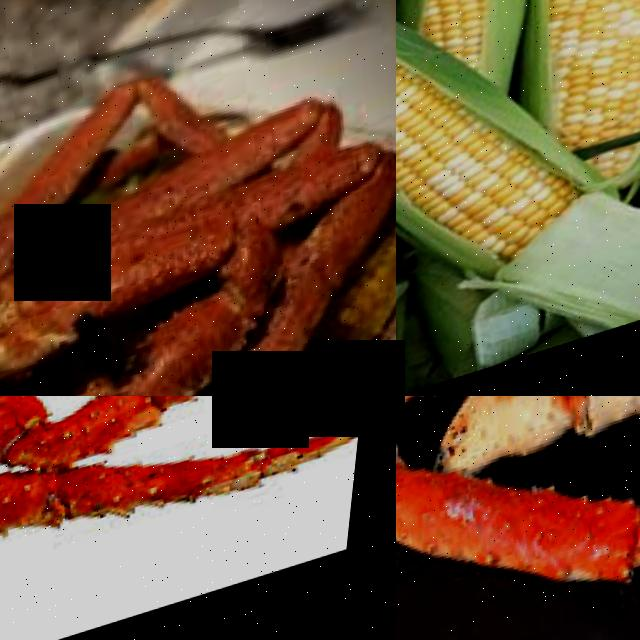corn: (396, 80, 601, 302), (508, 0, 640, 211), (396, 0, 493, 205), (396, 0, 551, 93)
crab: (0, 78, 396, 396), (0, 396, 374, 582), (396, 396, 640, 640), (0, 396, 146, 599), (58, 396, 379, 471)
